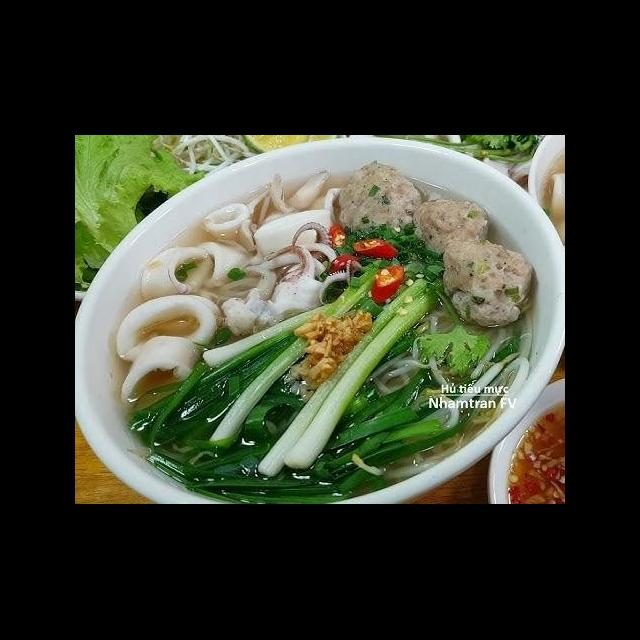muc: (253, 218, 363, 338), (112, 292, 225, 366), (117, 332, 204, 410), (245, 204, 335, 270), (135, 242, 217, 306), (191, 240, 262, 292), (198, 200, 262, 256), (304, 183, 350, 230)
vien moc: (437, 238, 538, 332), (332, 156, 424, 238), (408, 194, 494, 260)
